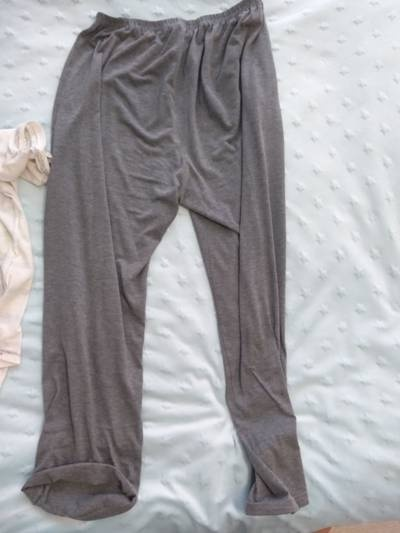Pants: (20, 0, 335, 509)
